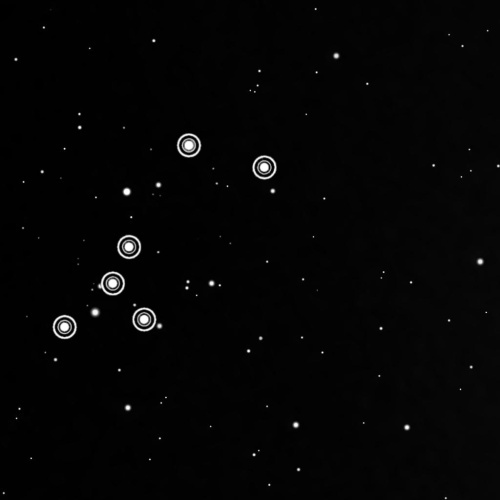canis_major: (48, 127, 282, 348)
